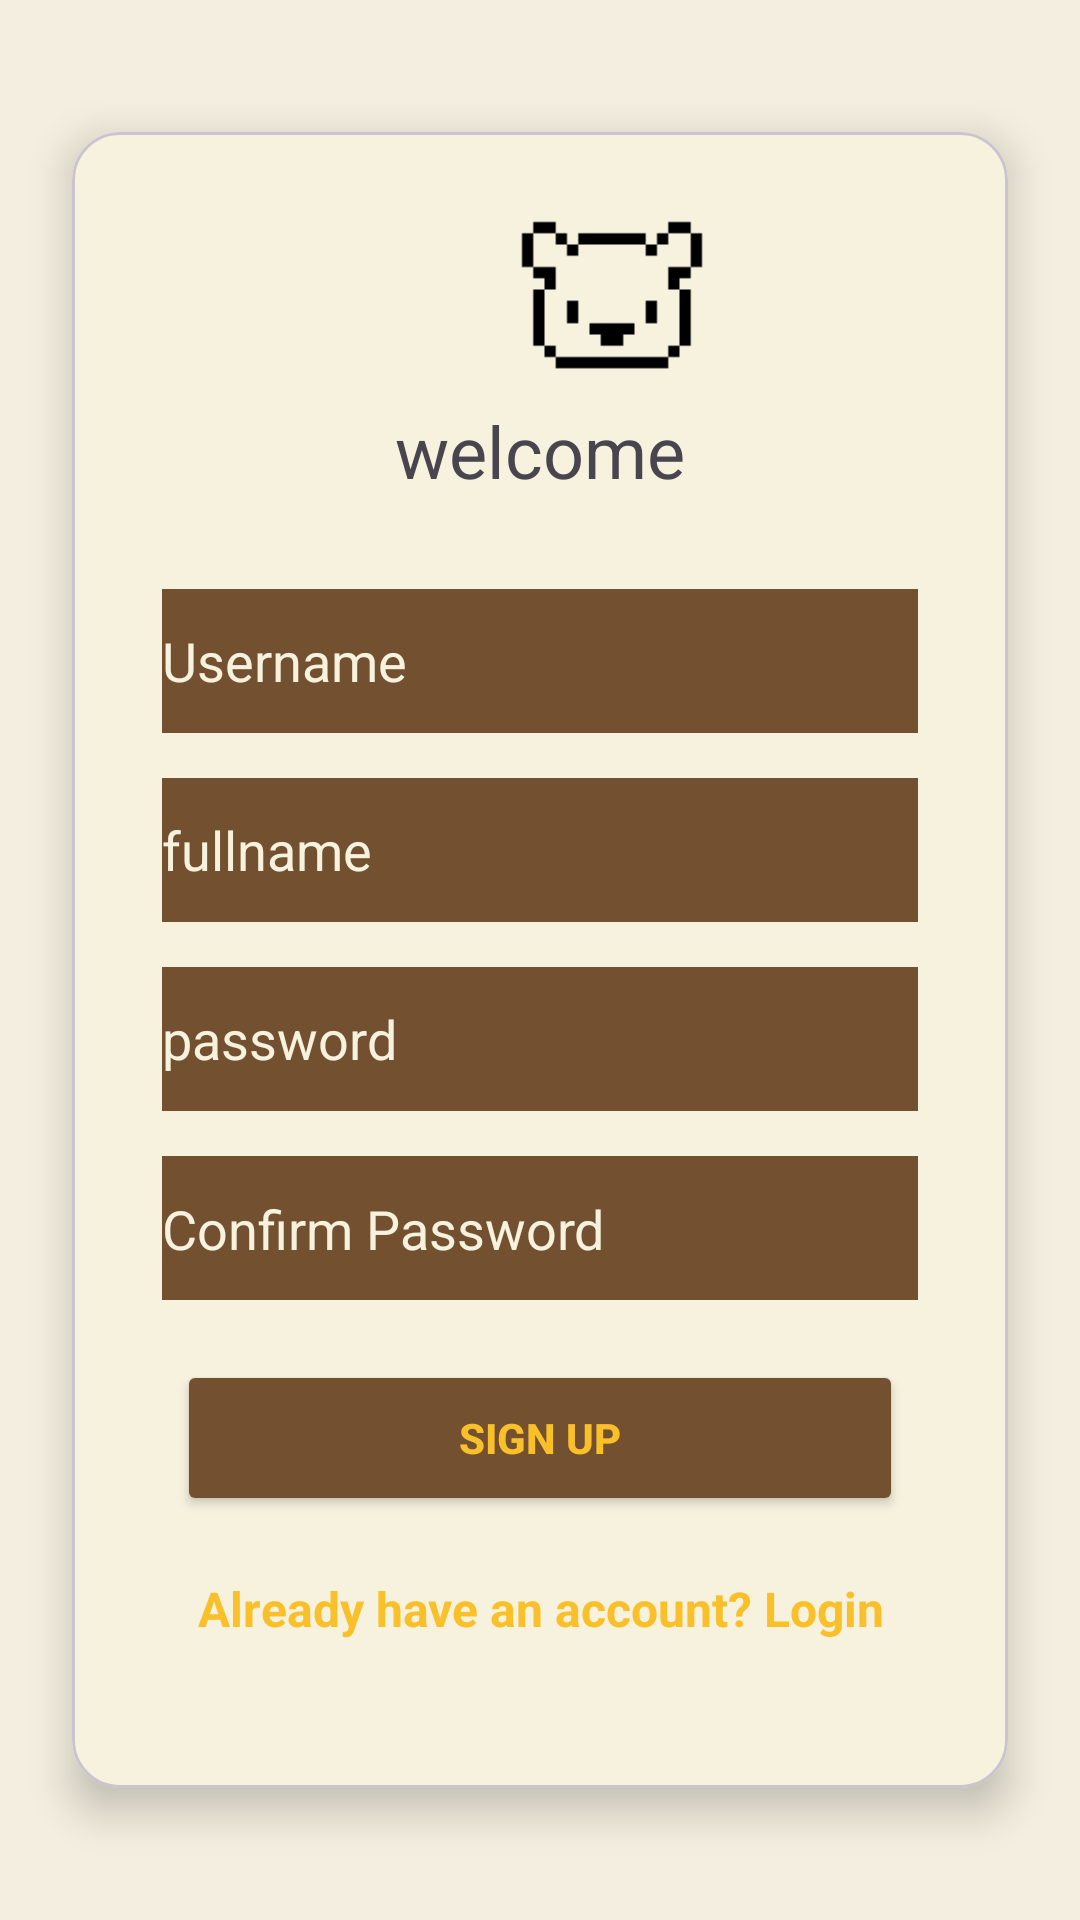

Screen size 1080 × 1920. Icon name, then its box in pixels as [x1,y1,x2,y2]:
bearicon: [521,221,703,369]
